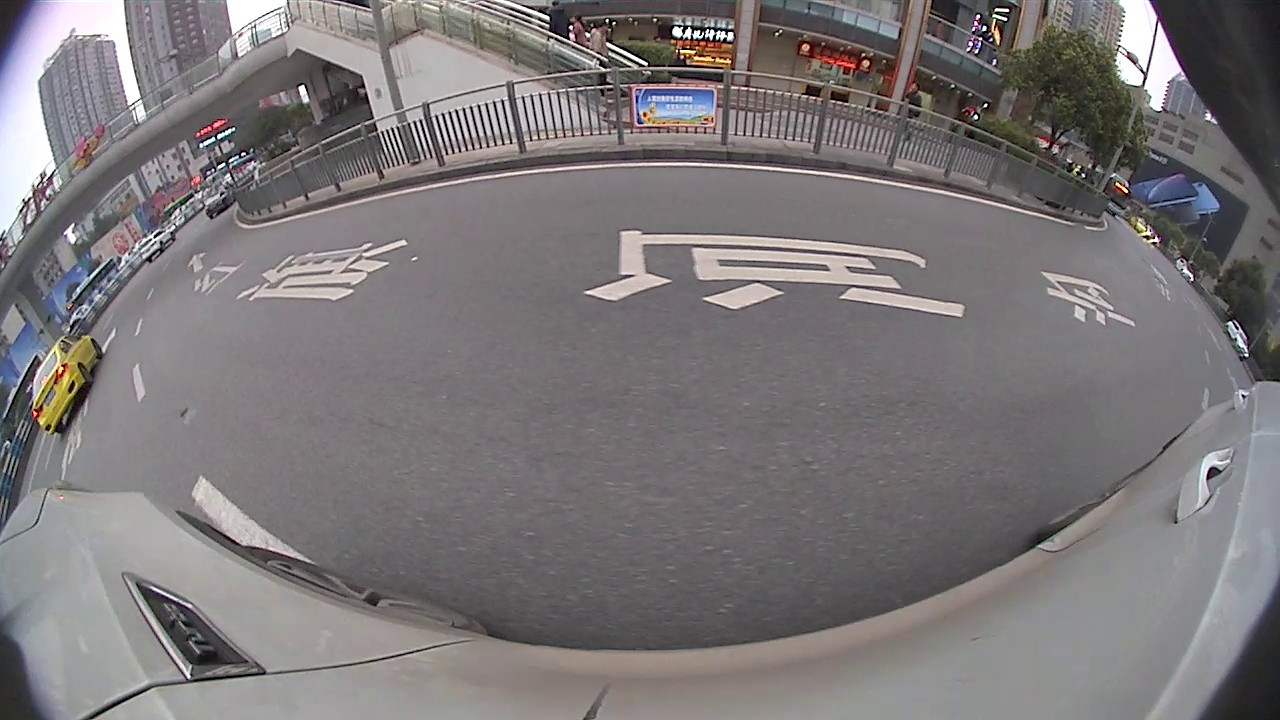bus: (1104, 175, 1133, 219)
car: (31, 332, 103, 434), (138, 226, 177, 262), (1222, 318, 1250, 362), (199, 190, 231, 219)
